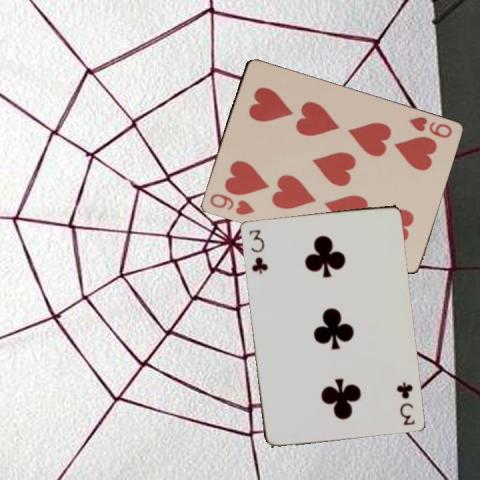3c: (246, 226, 270, 275), (395, 378, 415, 426)
9h: (206, 190, 255, 216), (406, 114, 454, 140)
